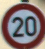20 km speed: (1, 1, 45, 48)
